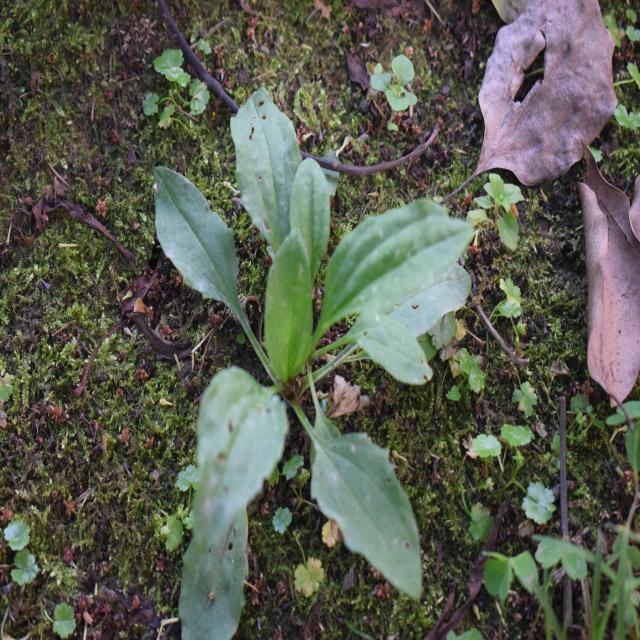plantain: (146, 98, 446, 571)
